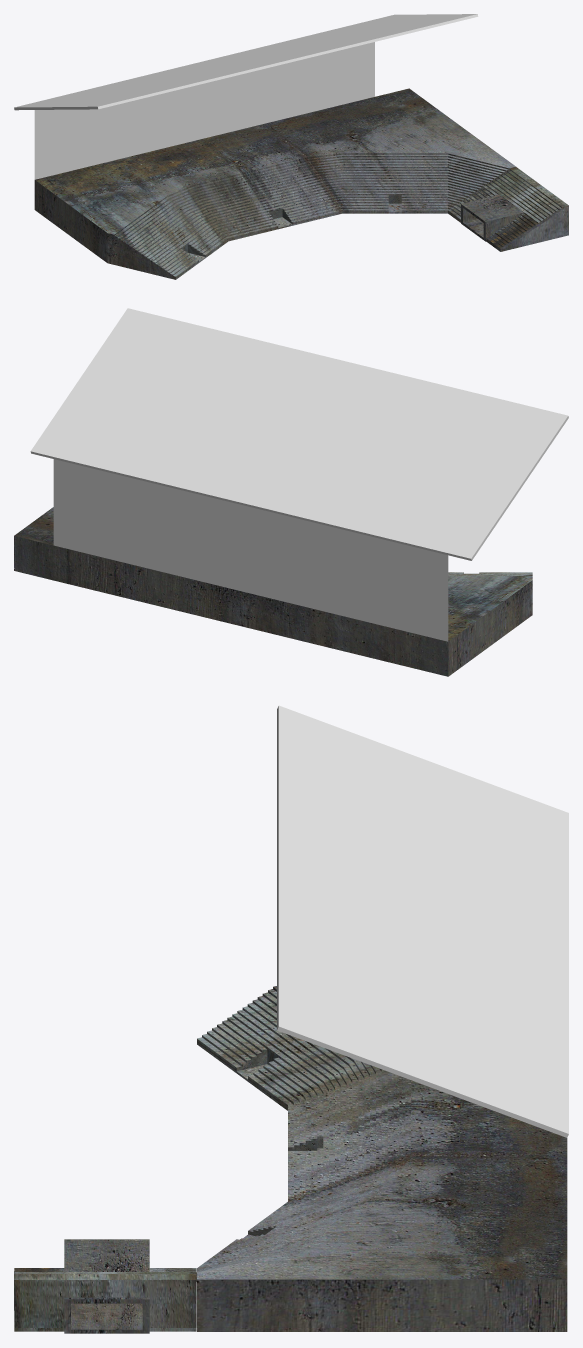
File: BigStair_Entrance_small.fbx
3 renders of one model, top to bottom at view 1: azimuth 30°, elevation 25°; view 2: azimuth 150°, elevation 25°; view 3: azimuth 270°, elevation 25°, orthographic. The views are drawn at different scales.
Parts seen in each view (by area): view 1: BigStair_body, Wall, Celiing, BigStair_Entrance, BigStair_door; view 2: Celiing, Wall, BigStair_body; view 3: Celiing, BigStair_body, BigStair_Entrance.
Part boxes in pixels (box(x1,y1,x2,y2)): BigStair_body: box(34, 88, 515, 279); Wall: box(34, 42, 374, 179); Celiing: box(14, 14, 478, 110); BigStair_Entrance: box(448, 167, 568, 251); BigStair_door: box(182, 195, 401, 256); Celiing: box(30, 308, 568, 560); Wall: box(53, 459, 448, 641); BigStair_body: box(14, 507, 532, 676); Celiing: box(277, 705, 568, 1137); BigStair_body: box(197, 986, 567, 1331); BigStair_Entrance: box(14, 1239, 196, 1333).
Size of the model in its own units: 16717 by 6808 by 11689.
